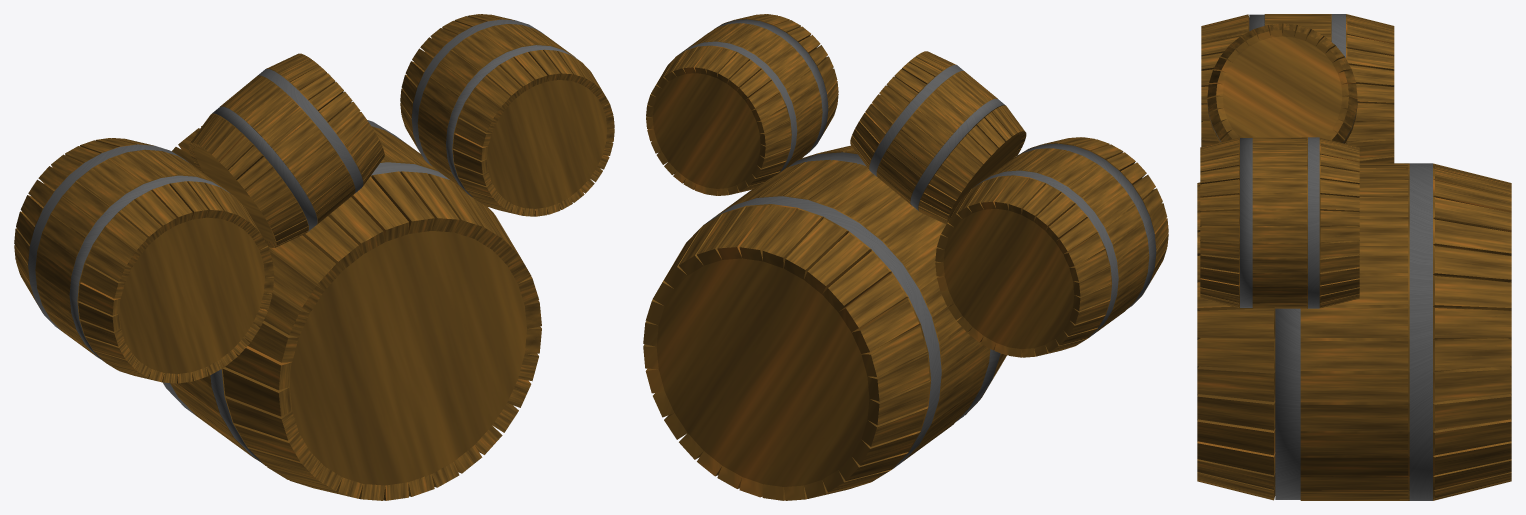
File: barrel2.fbx
3 views of the same model, side by side, from view 1: azimuth 30°, elevation 25°; view 2: azimuth 150°, elevation 25°; view 3: azimuth 270°, elevation 25° (orthographic). The views are drawn at different scales.
Visible parts, largest first — view 1: Cylinder.002; view 2: Cylinder.002; view 3: Cylinder.002.
Boxes of the visible parts, <box> form: Cylinder.002: <box>14,14,614,500</box>; Cylinder.002: <box>643,14,1168,500</box>; Cylinder.002: <box>1197,14,1511,500</box>.
Bounding box in the file's own units: 385 × 308 × 205.
